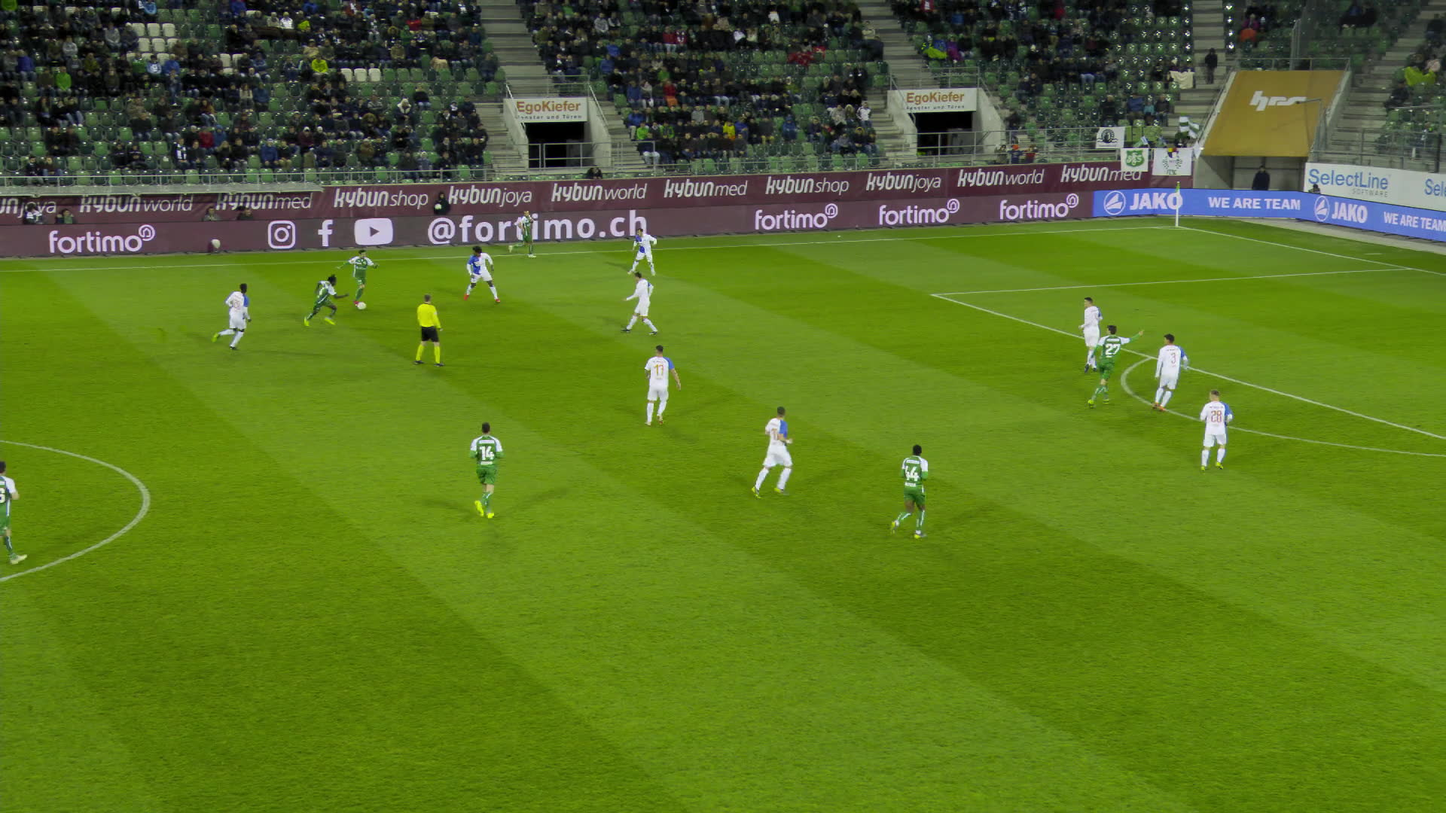ball: (357, 302, 365, 309)
player: (1088, 324, 1144, 410), (750, 406, 793, 498), (890, 444, 927, 539), (468, 422, 503, 518), (643, 345, 680, 425), (1151, 333, 1189, 410), (0, 461, 26, 571), (1199, 388, 1233, 470), (211, 283, 250, 351), (336, 249, 379, 306), (619, 272, 657, 336), (304, 273, 349, 325), (463, 245, 500, 302), (1078, 297, 1102, 372), (627, 227, 657, 276), (508, 209, 536, 259)
referee: (412, 294, 445, 367)
